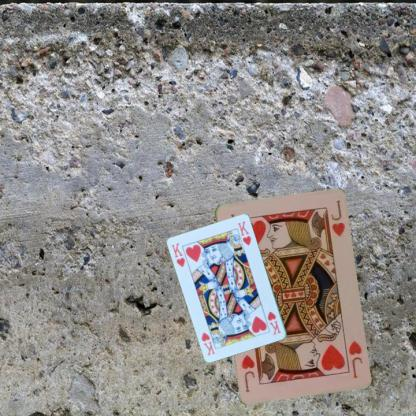Jh: (340, 336, 364, 379)
Kh: (168, 240, 186, 269), (265, 309, 282, 336)
